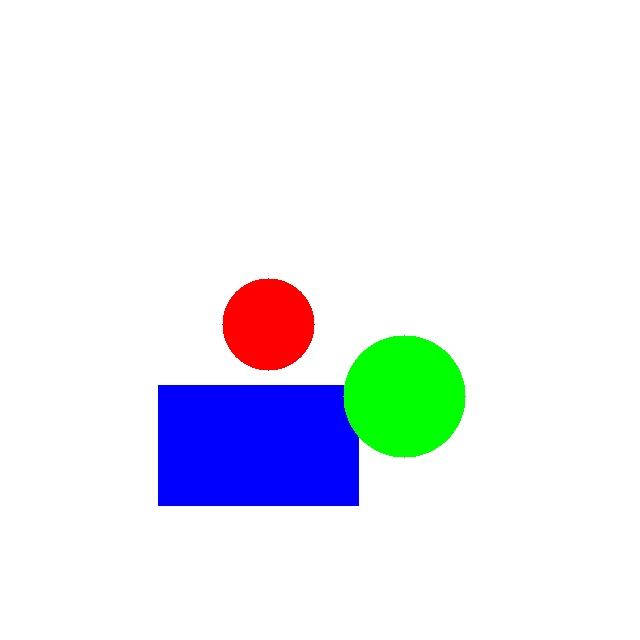cartao: (158, 385, 358, 505)
rosca_externa: (343, 335, 465, 457)
rosca_interna: (222, 278, 314, 370)
